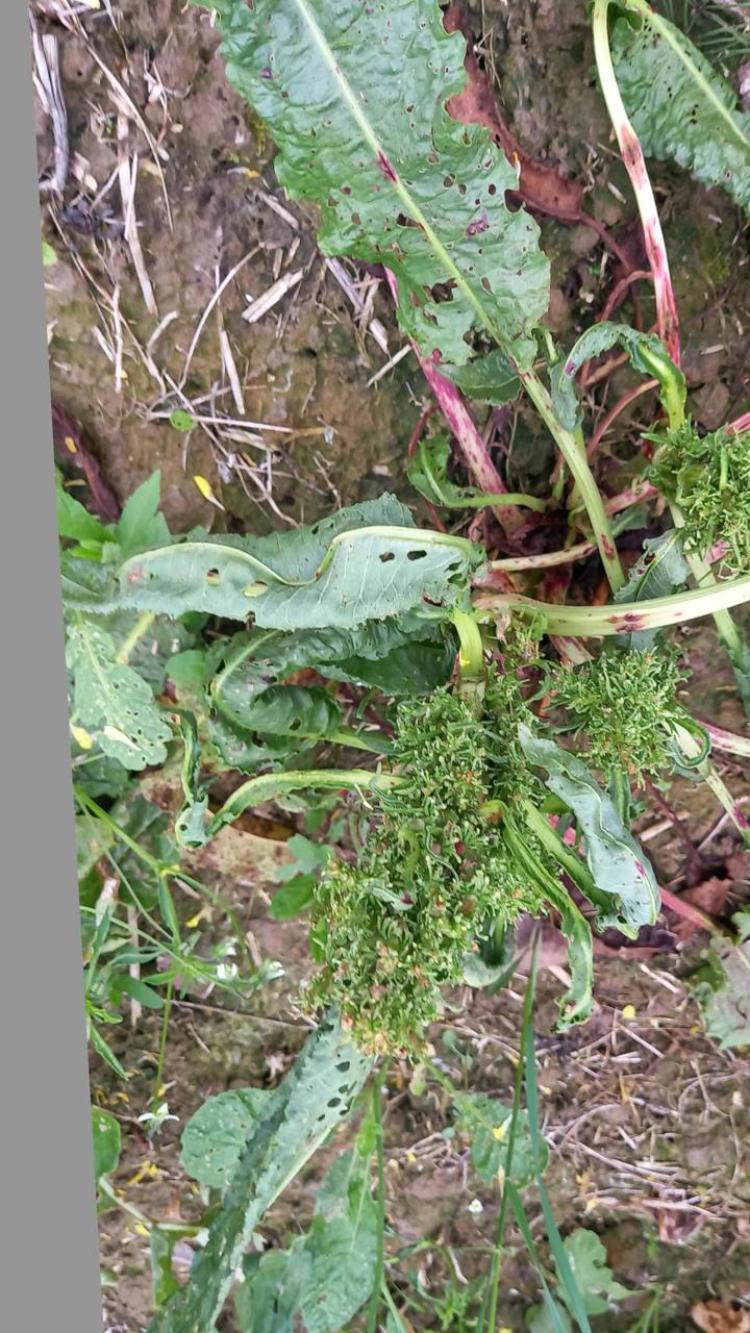zhavel: (298, 410, 750, 1060)
